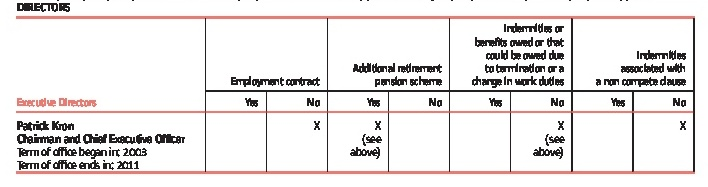table: (0, 0, 708, 187)
